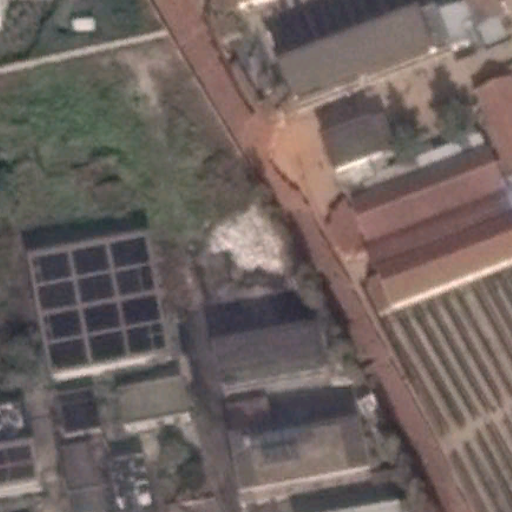msw: (214, 199, 290, 277)
